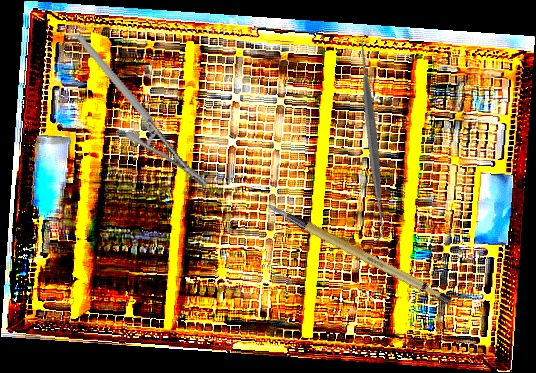Needle Holder: (77, 12, 209, 210)
Scalpel Handle: (265, 175, 454, 328)
Spatula Surgical: (266, 32, 478, 245)
